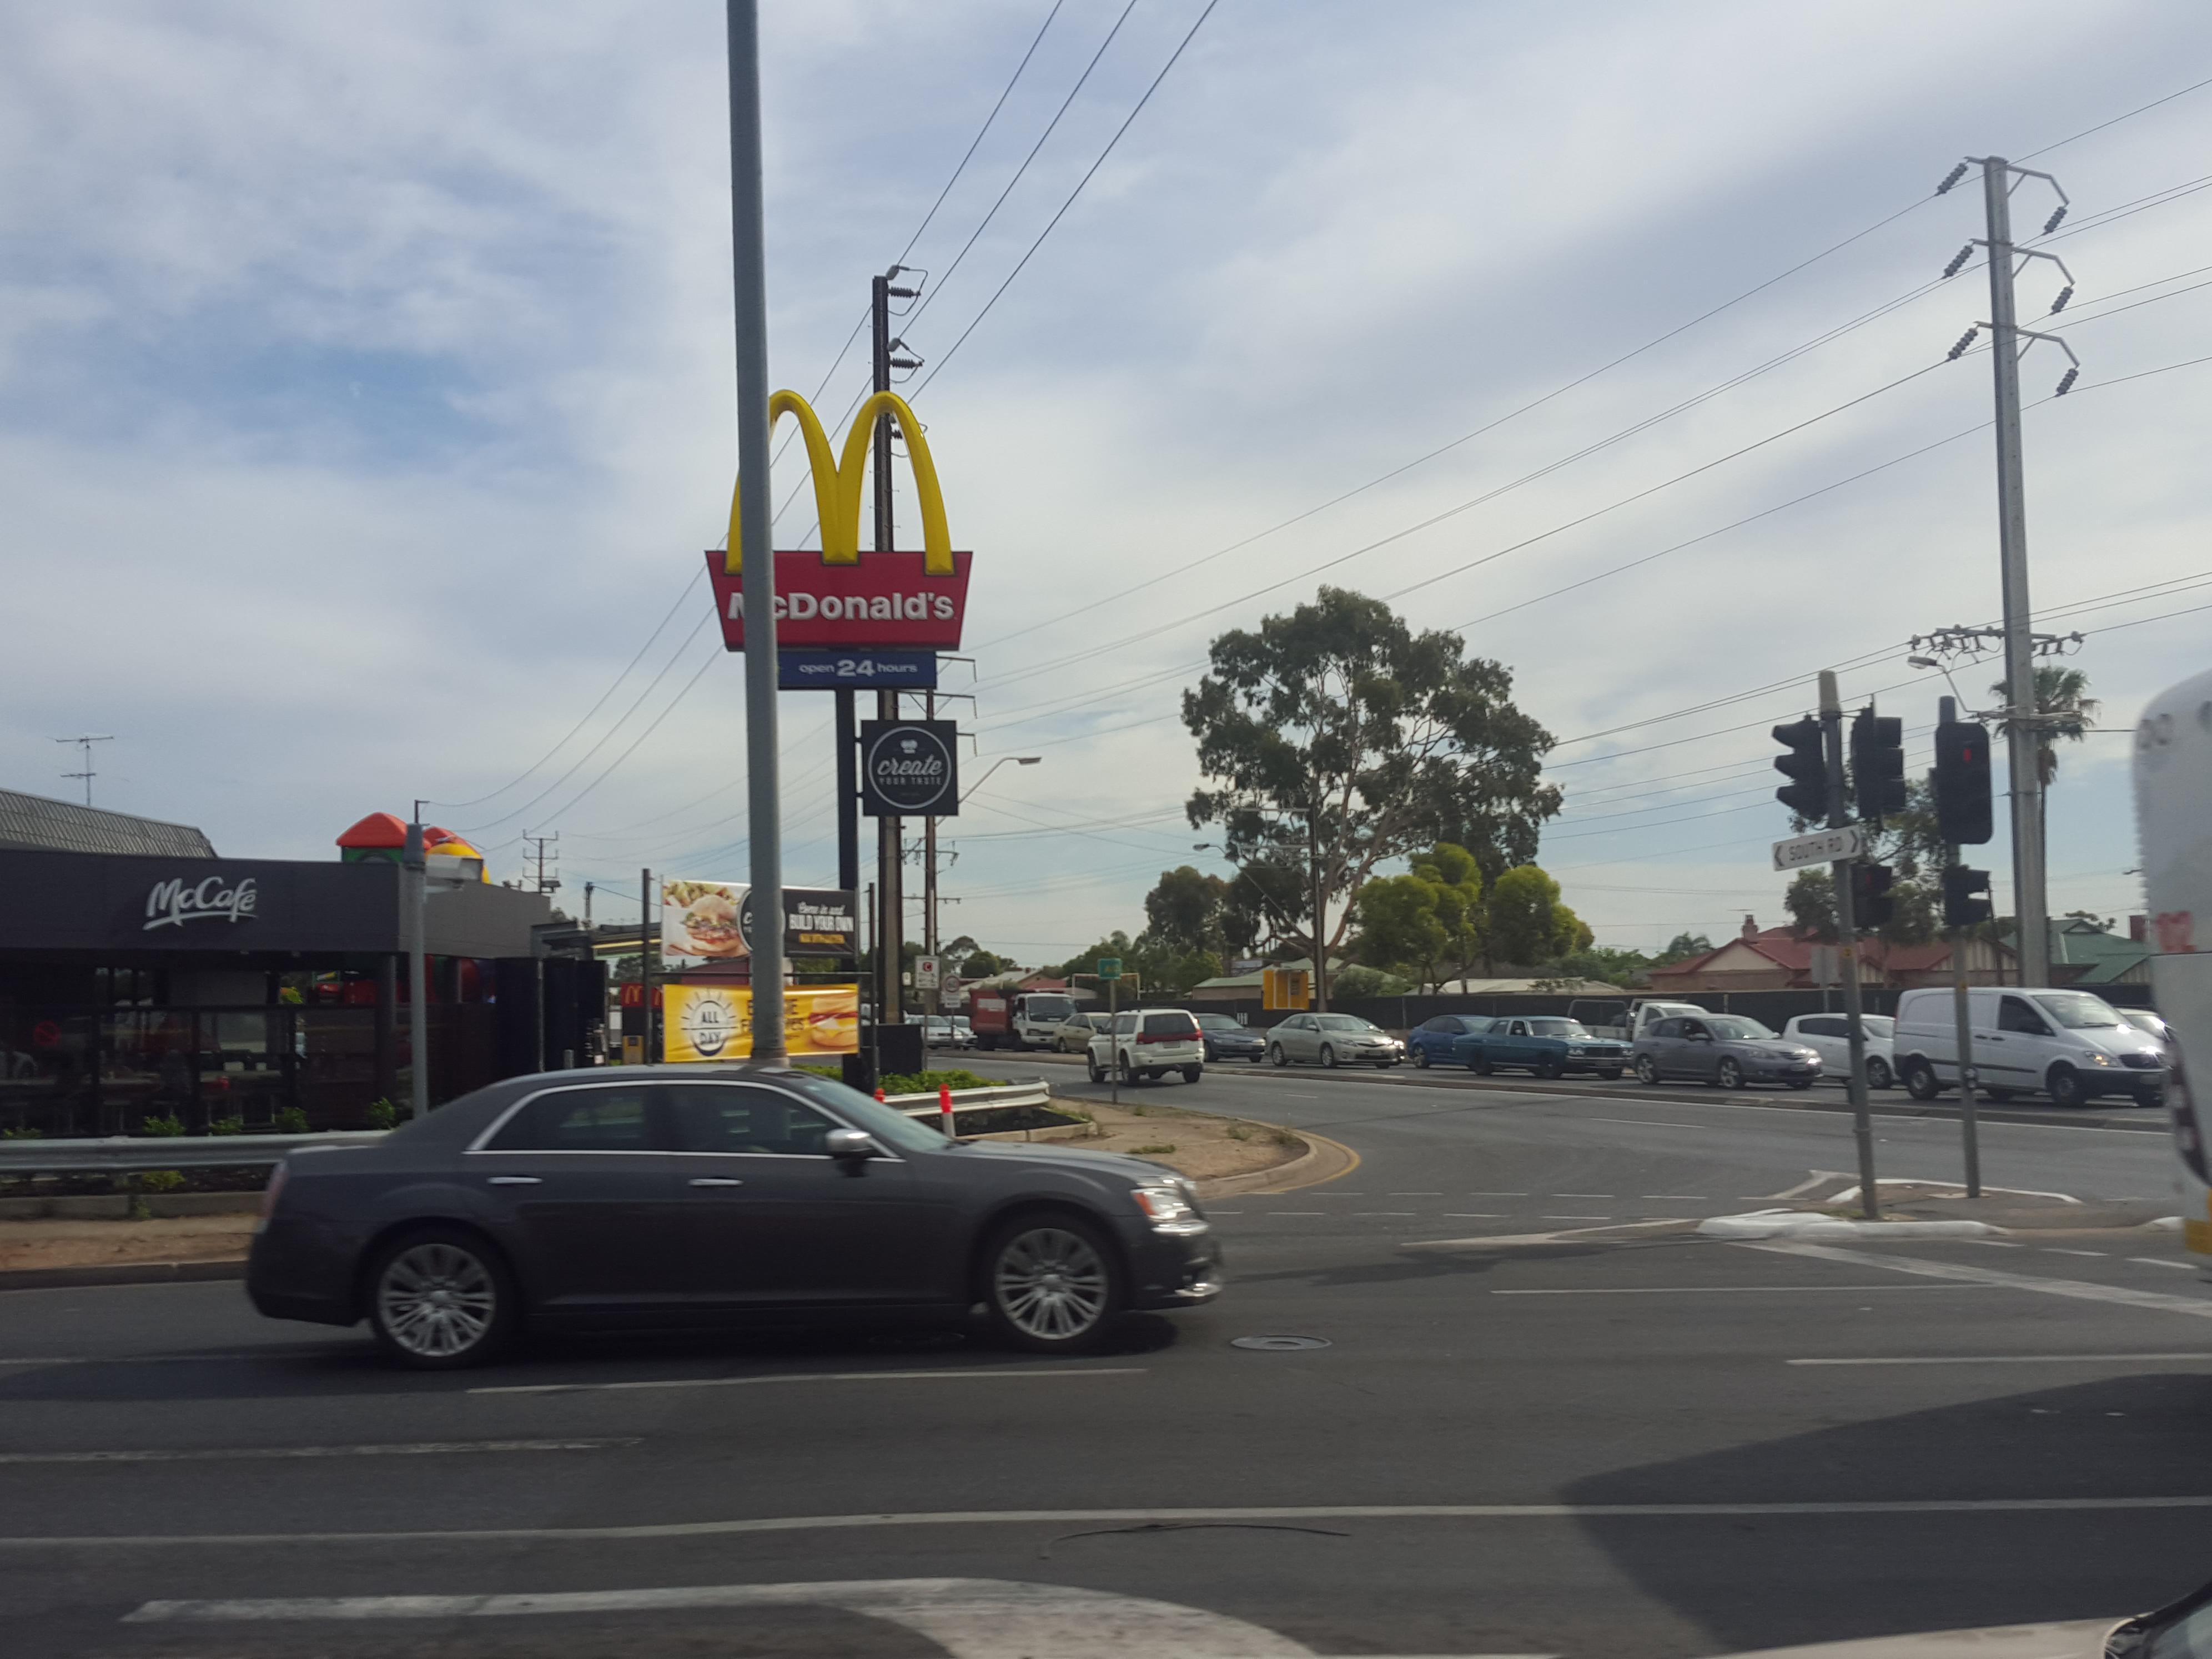vinyl banner: (650, 847, 892, 967), (646, 972, 871, 1058)
